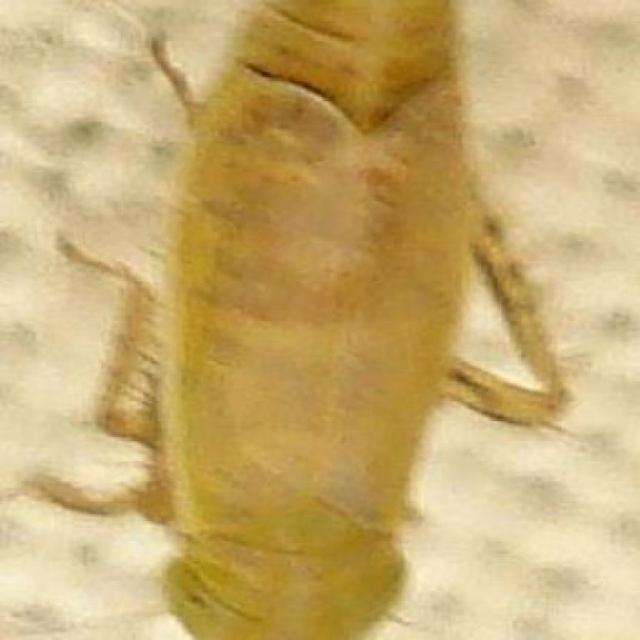green-leafhopper: (153, 0, 524, 640)
